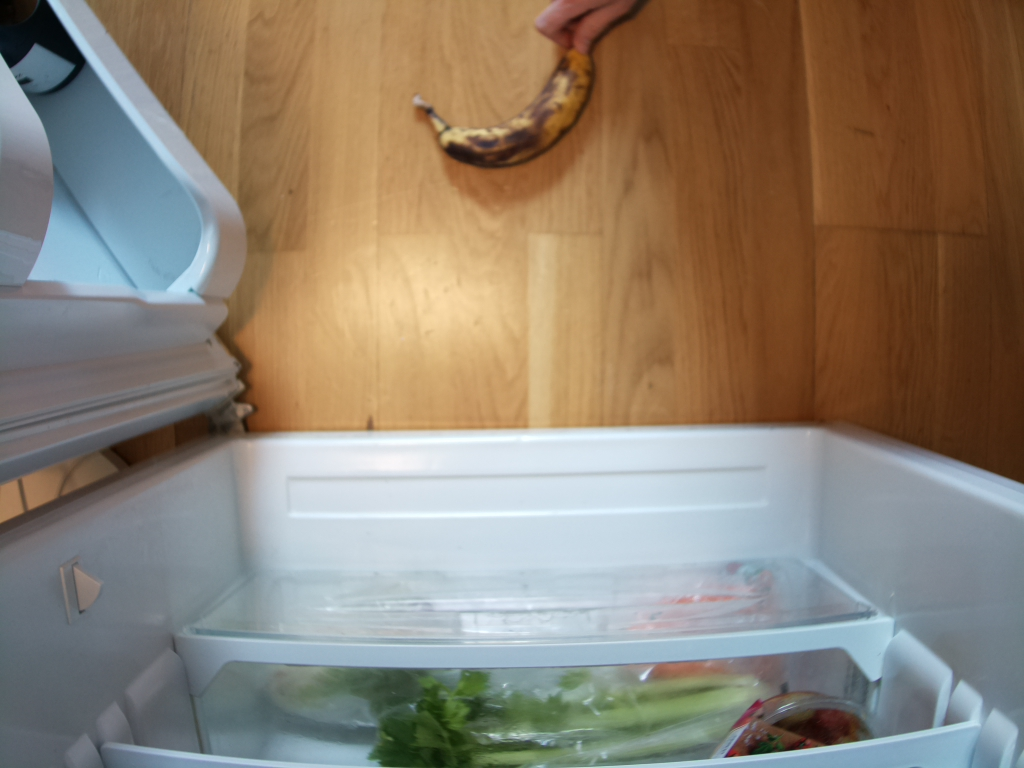banana-overripe: (412, 45, 596, 170)
